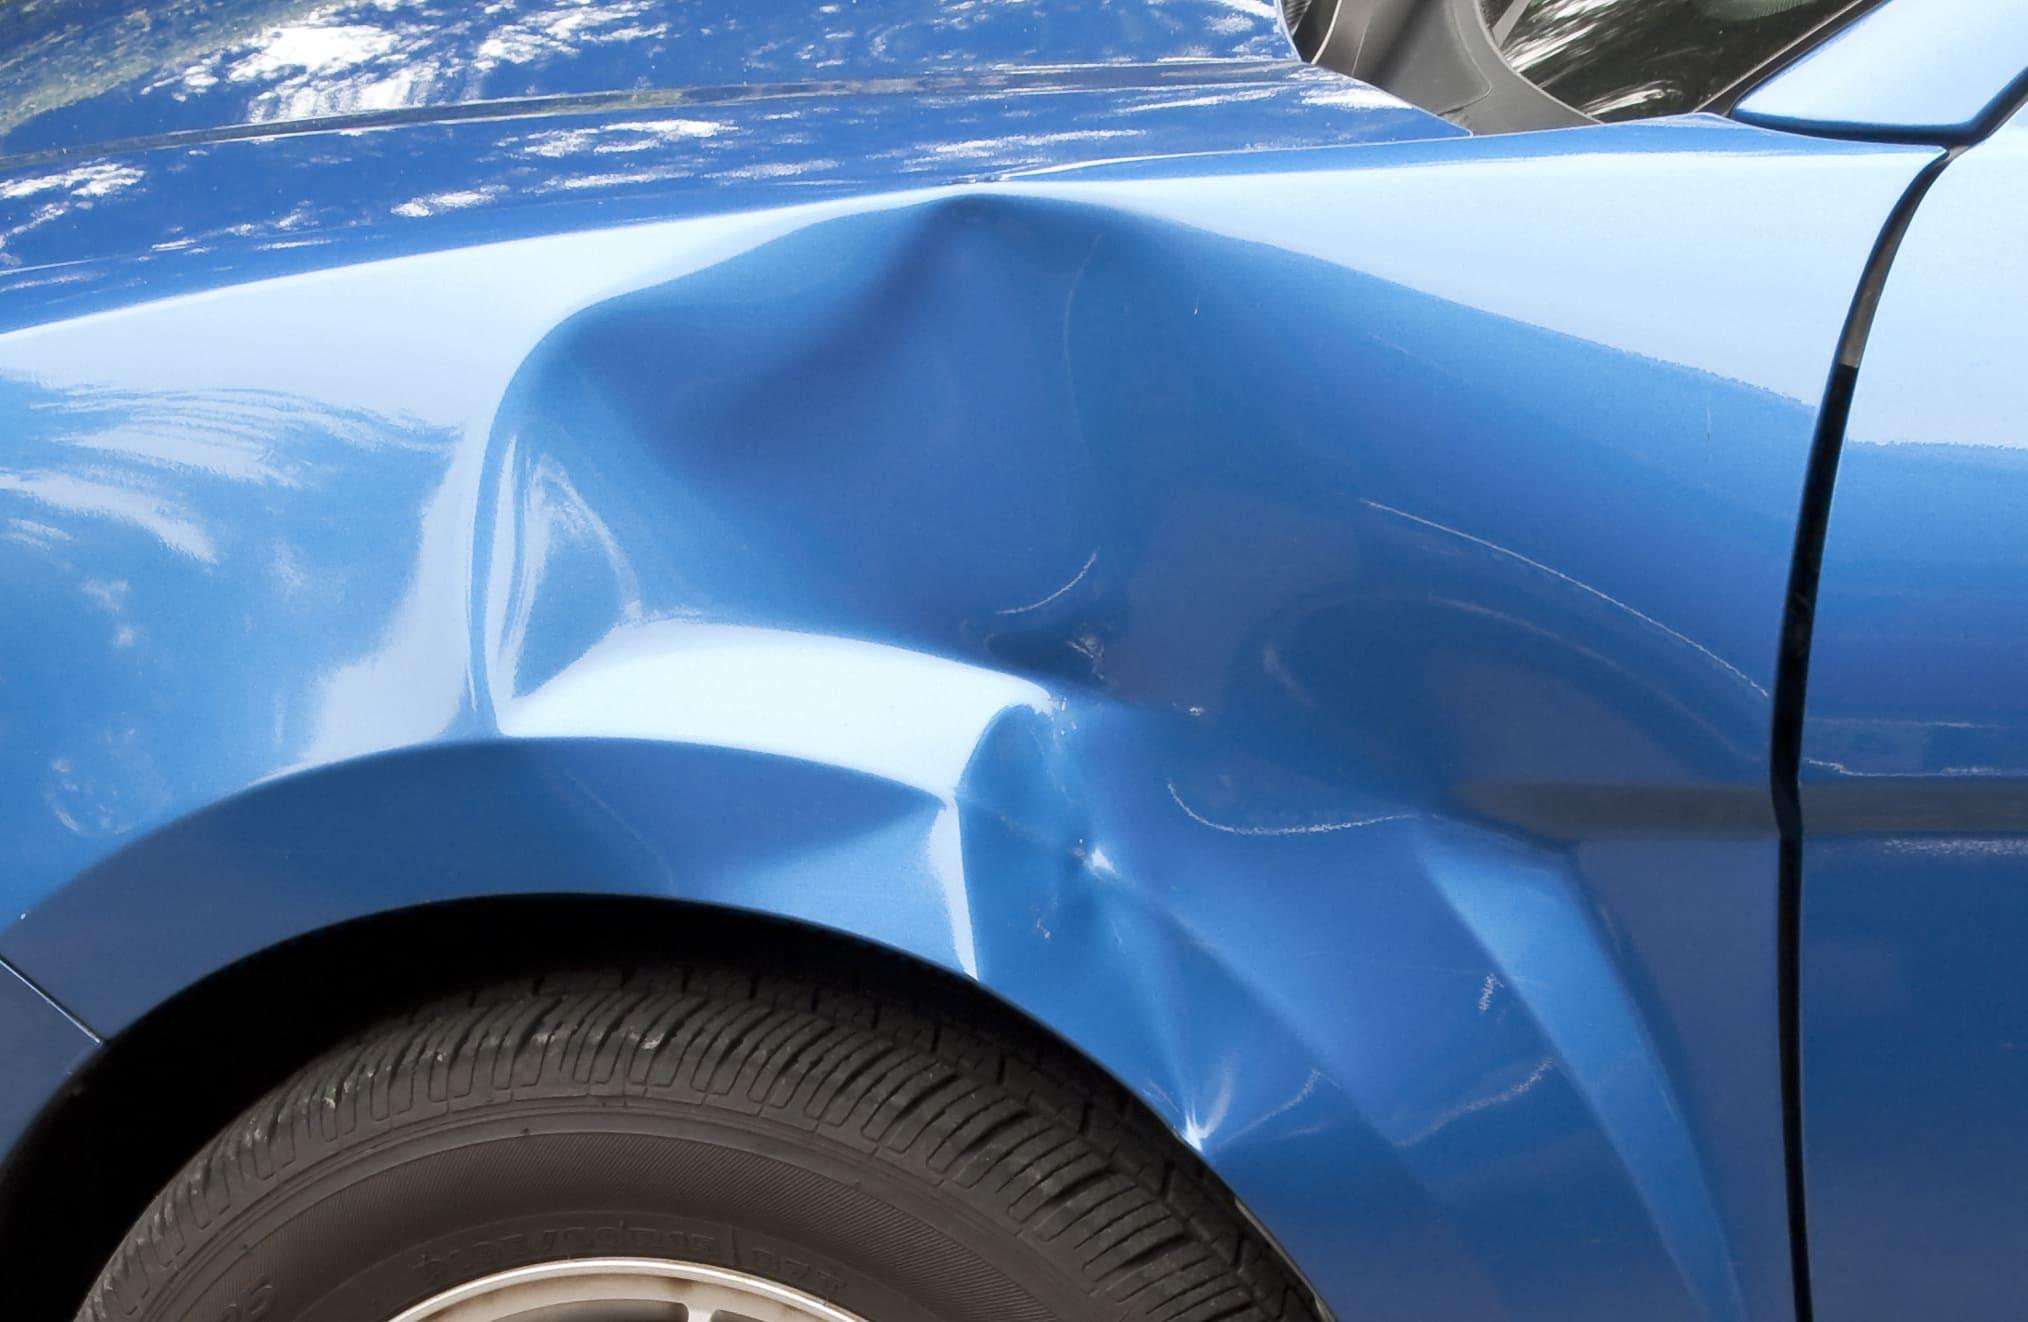dent: (463, 149, 1787, 1199)
